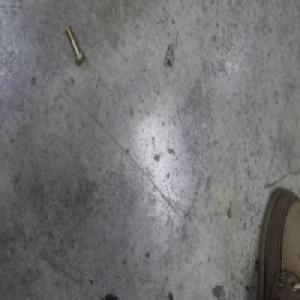Bolt: (64, 26, 84, 70)
